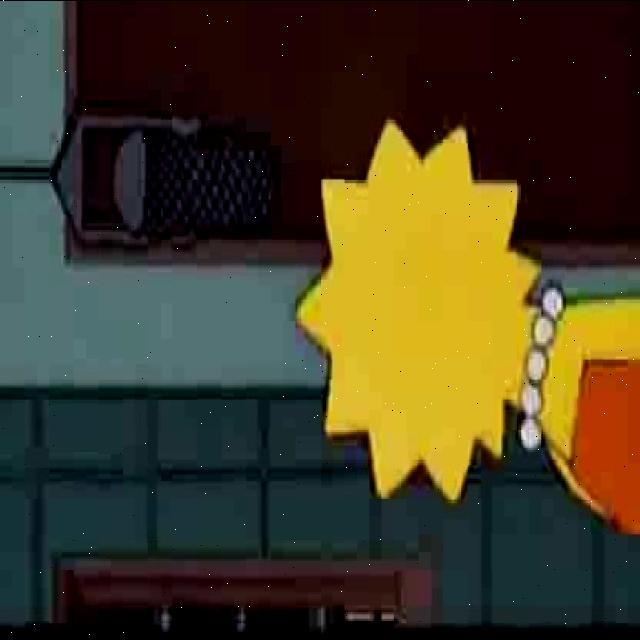Lisa Simpson: (291, 116, 571, 507)
